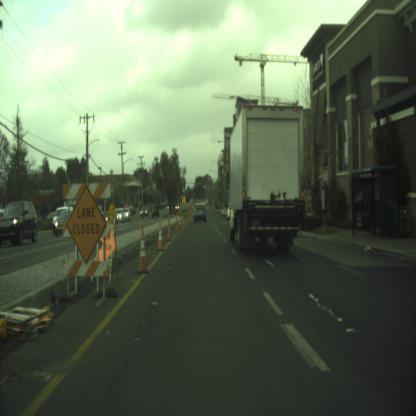Green: (203, 182, 205, 188), (218, 192, 220, 198), (222, 193, 223, 199), (195, 181, 196, 186)
